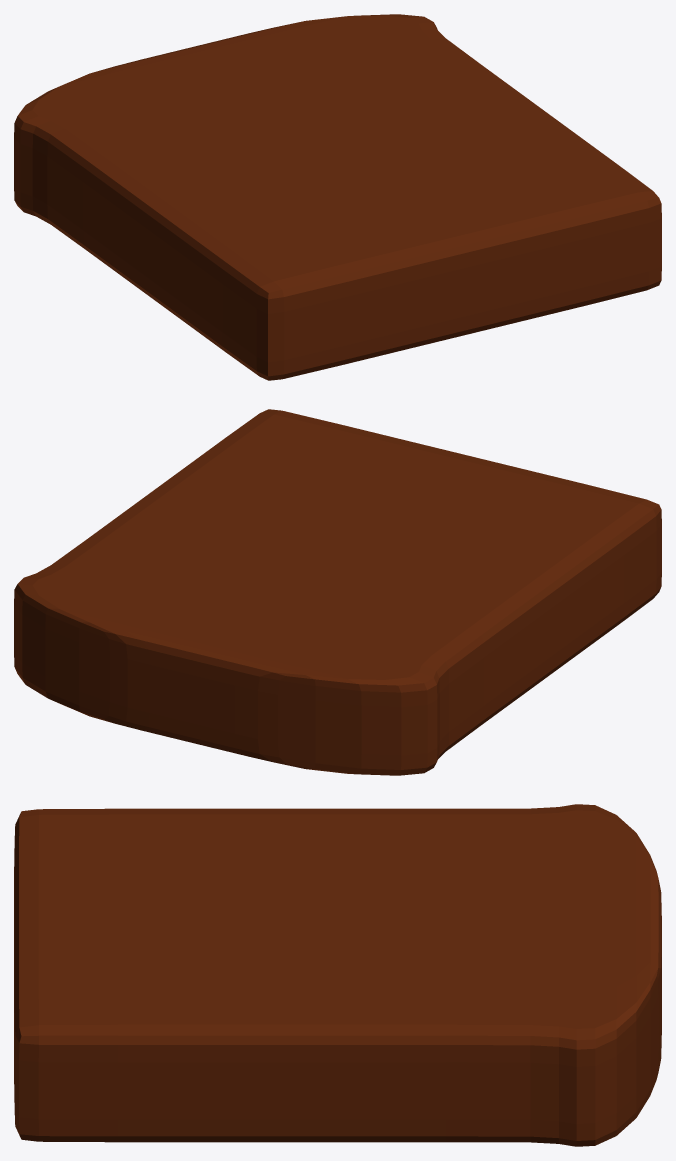
The model's file is ggj2019toast.fbx.
3 renders of one model, top to bottom at view 1: azimuth 30°, elevation 25°; view 2: azimuth 150°, elevation 25°; view 3: azimuth 270°, elevation 25°, orthographic. The views are drawn at different scales.
Parts seen in each view (by area): view 1: Cube; view 2: Cube; view 3: Cube.
Part boxes in pixels (x1,y1,x2,y2): Cube: [14, 14, 661, 380]; Cube: [14, 409, 661, 775]; Cube: [14, 804, 661, 1146].
Bounding box in the file's own units: 77.89 × 17 × 88.77.
